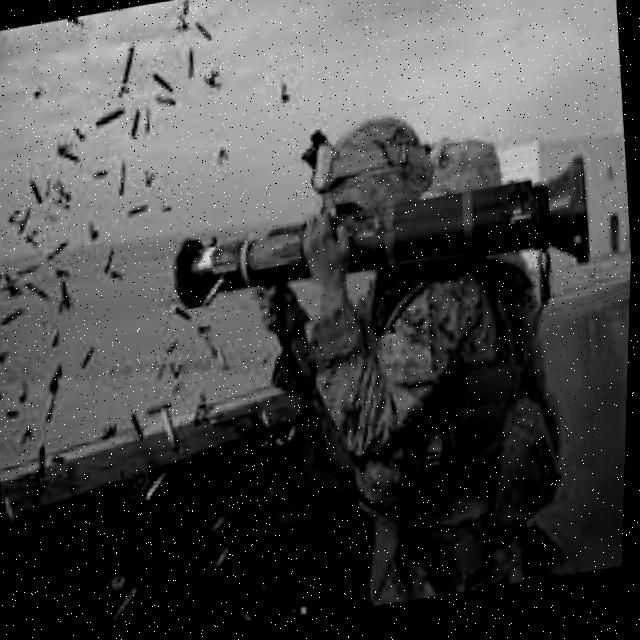rocket: (159, 154, 608, 331)
